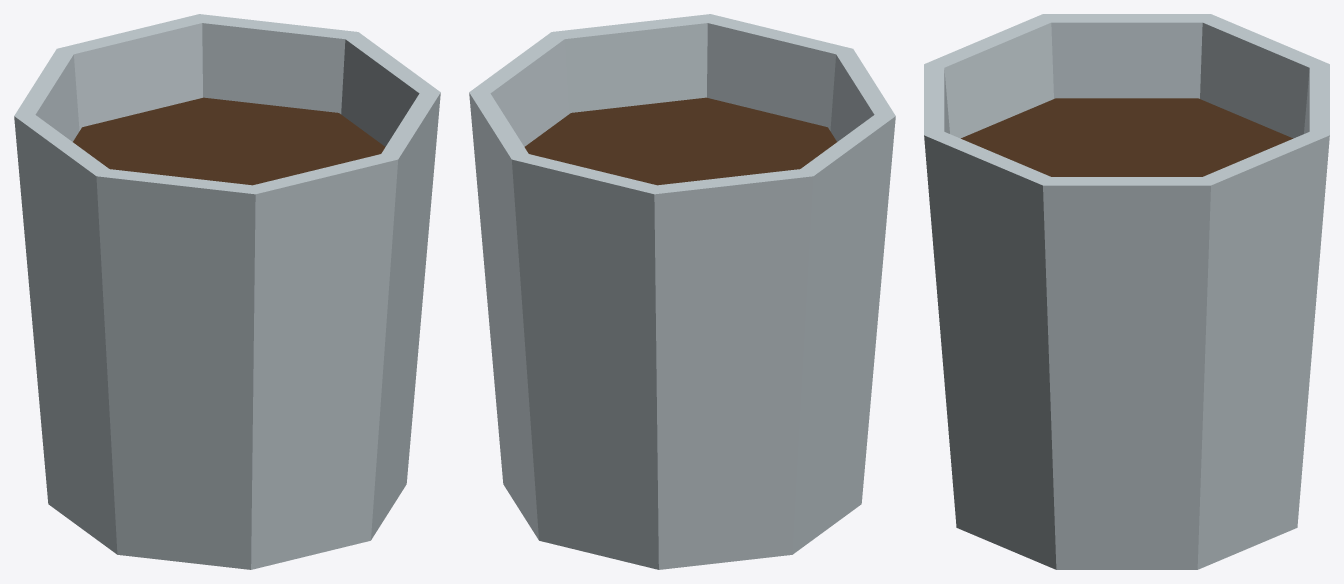
File: Kopi.fbx
3 renders of one model, left to right at view 1: azimuth 30°, elevation 25°; view 2: azimuth 150°, elevation 25°; view 3: azimuth 270°, elevation 25°, orthographic. The views are drawn at different scales.
Visible parts, largest first — view 1: Gelas_Kopi, Isi_Kopi; view 2: Gelas_Kopi, Isi_Kopi; view 3: Gelas_Kopi, Isi_Kopi.
Boxes of the visible parts, <box> form: Gelas_Kopi: <box>14,14,440,569</box>; Isi_Kopi: <box>73,97,385,185</box>; Gelas_Kopi: <box>469,14,895,569</box>; Isi_Kopi: <box>524,97,836,185</box>; Gelas_Kopi: <box>924,14,1329,569</box>; Isi_Kopi: <box>961,98,1292,176</box>.
Bounding box in the file's own units: 92.39 × 100 × 92.39.
